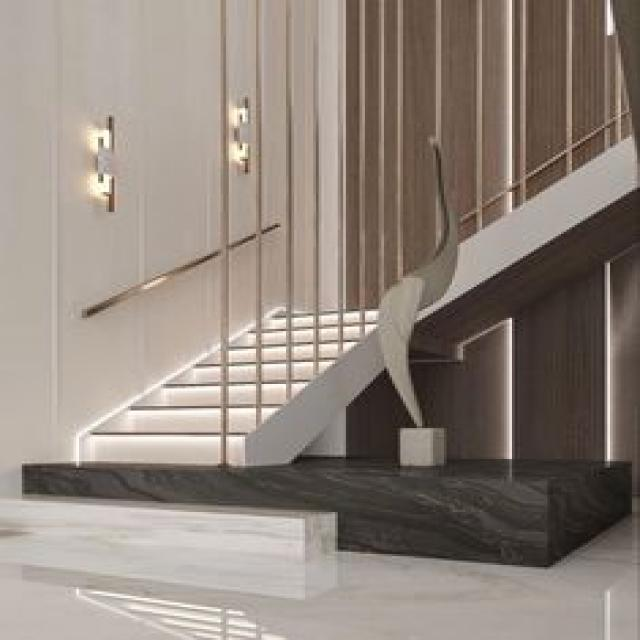stairs: (71, 302, 455, 466)
